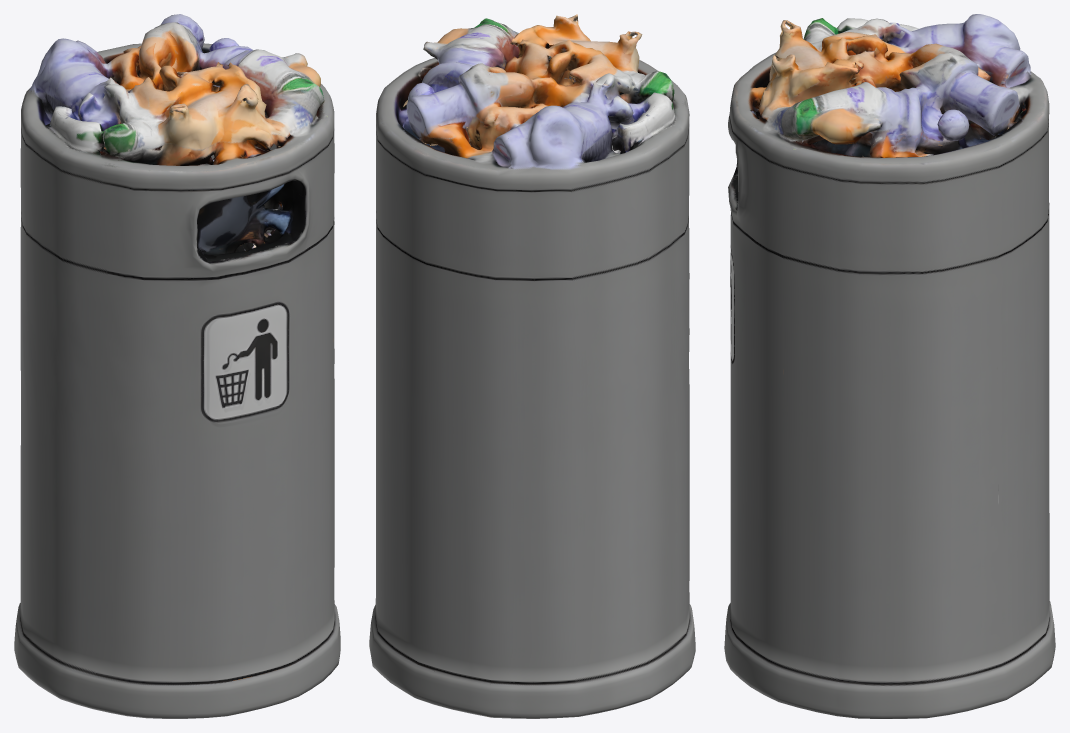
The model's file is Meshy_AI_Overflowing_Trash_Can_0102212945_texture.fbx.
3 renders of one model, left to right at view 1: azimuth 30°, elevation 25°; view 2: azimuth 150°, elevation 25°; view 3: azimuth 270°, elevation 25°, orthographic.
Visible parts, largest first — view 1: Mesh0; view 2: Mesh0; view 3: Mesh0.
Part boxes in pixels (<box>): Mesh0: <box>14,14,340,718</box>; Mesh0: <box>369,14,695,718</box>; Mesh0: <box>724,14,1055,718</box>.
Size of the model in its own units: 93.21 by 191 by 93.22.
1 material, 1 textured.
